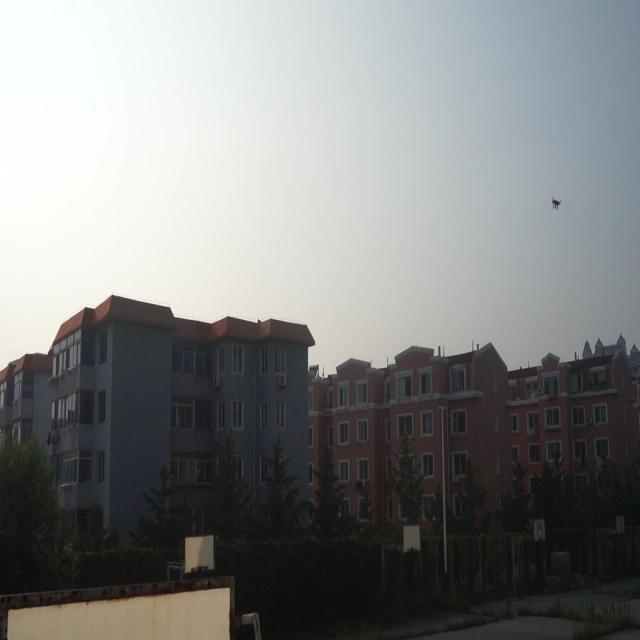UAV: (552, 196, 561, 211)
